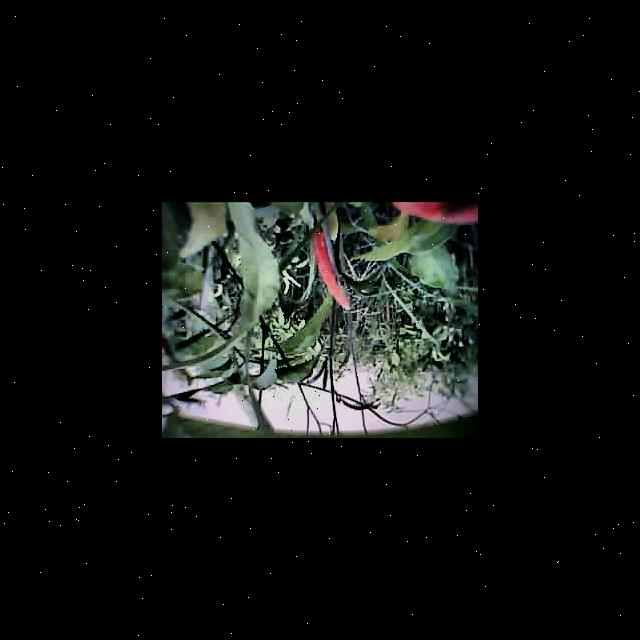Cabai: (311, 227, 349, 314), (391, 202, 478, 228)
